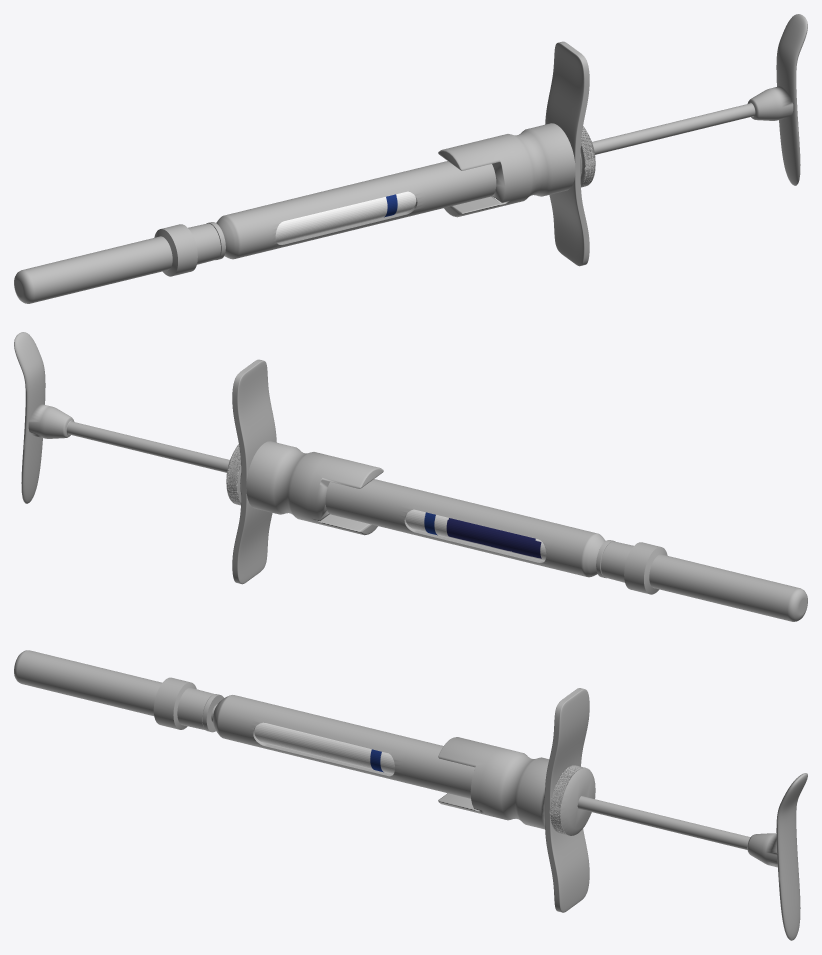
File: Dental_Cartridge_anesthetics.fbx
The picture shows the model from 3 angles, top to bottom: view 1: azimuth 30°, elevation 25°; view 2: azimuth 150°, elevation 25°; view 3: azimuth 330°, elevation 25°; orthographic projection.
Parts seen in each view (by area): view 1: Dental cartridge, Cylinder.004, NeedleTube, Cylinder.005, Tube; view 2: Dental cartridge, Cylinder.004, NeedleTube, Cylinder.005, Tube; view 3: Dental cartridge, Cylinder.004, NeedleTube, Cylinder.005, Tube.
Part boxes in pixels (x1,y1,x2,y2): Dental cartridge: [438, 41, 595, 266]; Cylinder.004: [216, 161, 496, 259]; NeedleTube: [14, 223, 220, 303]; Cylinder.005: [592, 14, 807, 185]; Tube: [275, 191, 416, 243]; Dental cartridge: [226, 359, 383, 584]; Cylinder.004: [325, 479, 605, 577]; NeedleTube: [601, 541, 807, 621]; Cylinder.005: [14, 332, 229, 503]; Tube: [405, 509, 546, 561]; Dental cartridge: [438, 688, 595, 912]; Cylinder.004: [211, 695, 475, 798]; NeedleTube: [14, 650, 214, 730]; Cylinder.005: [577, 773, 807, 940]; Tube: [254, 722, 394, 774].
Size of the model in its own units: 20.66 by 5.29 by 1.59.
